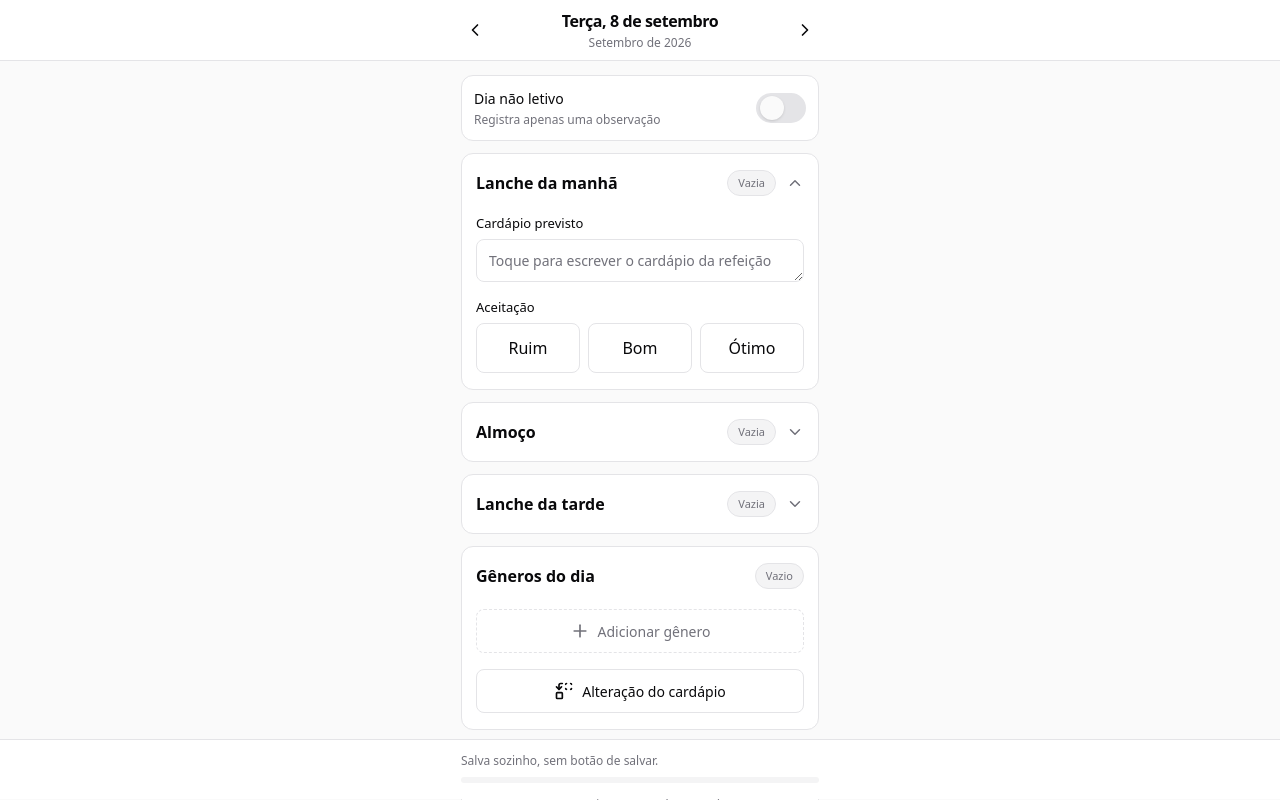
it: os gêneros utilizados › acham no catálogo sem exigir o acento certo (RNF#1 da US009)
The width and height of the screenshot is (1280, 800).
Click the button "Almoço Vazia".
click(506, 432)  # box [462,403,818,461]
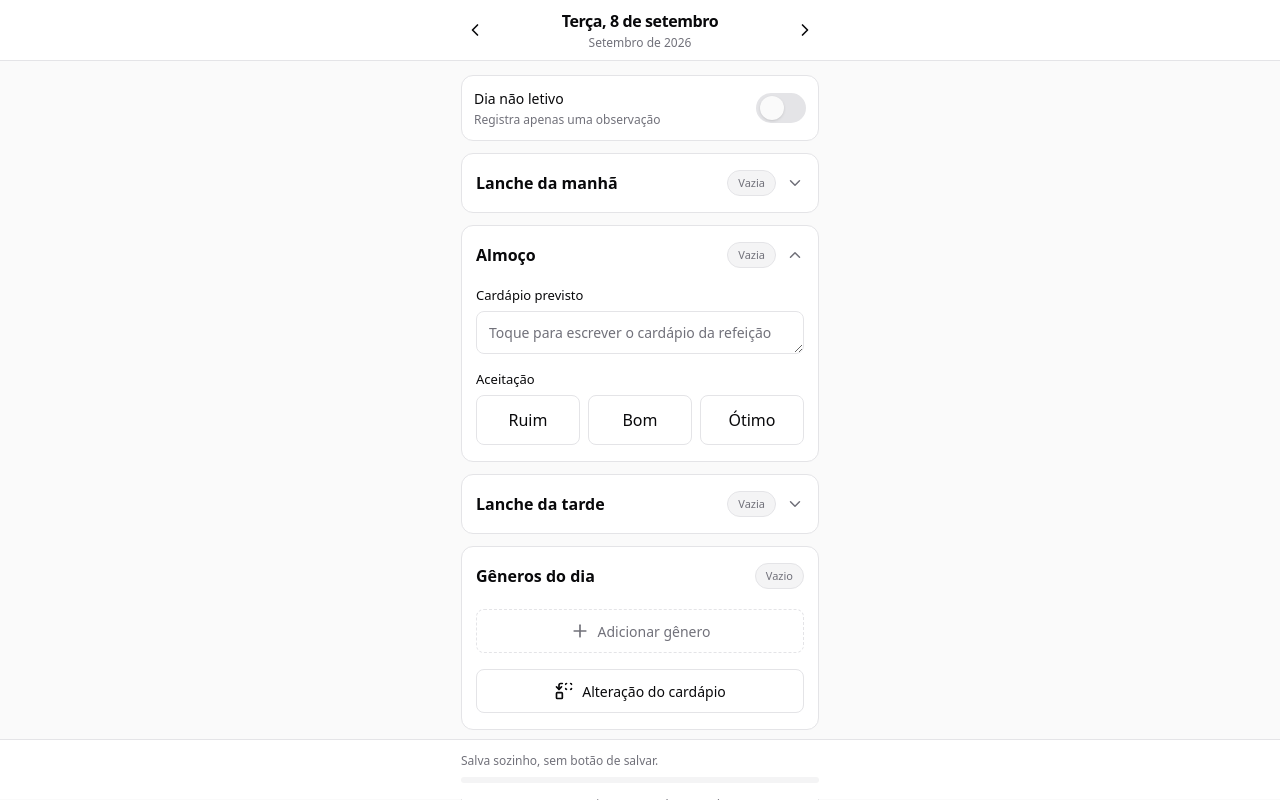
Click the button "Adicionar gênero".
click(640, 631)  # box [476,609,804,653]
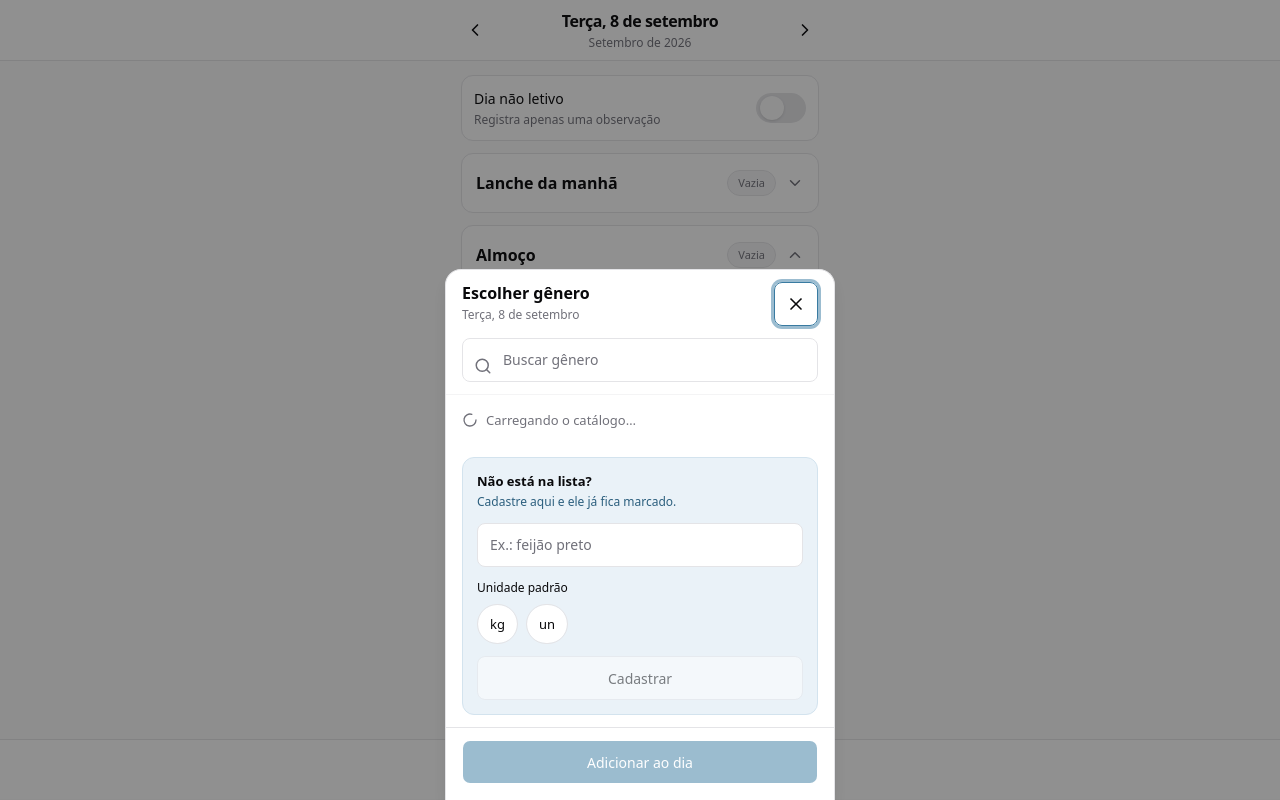
Type "feijao" into the search field labelled "Buscar gênero".
click(640, 360); type("feijao")  # box [462,338,818,382]
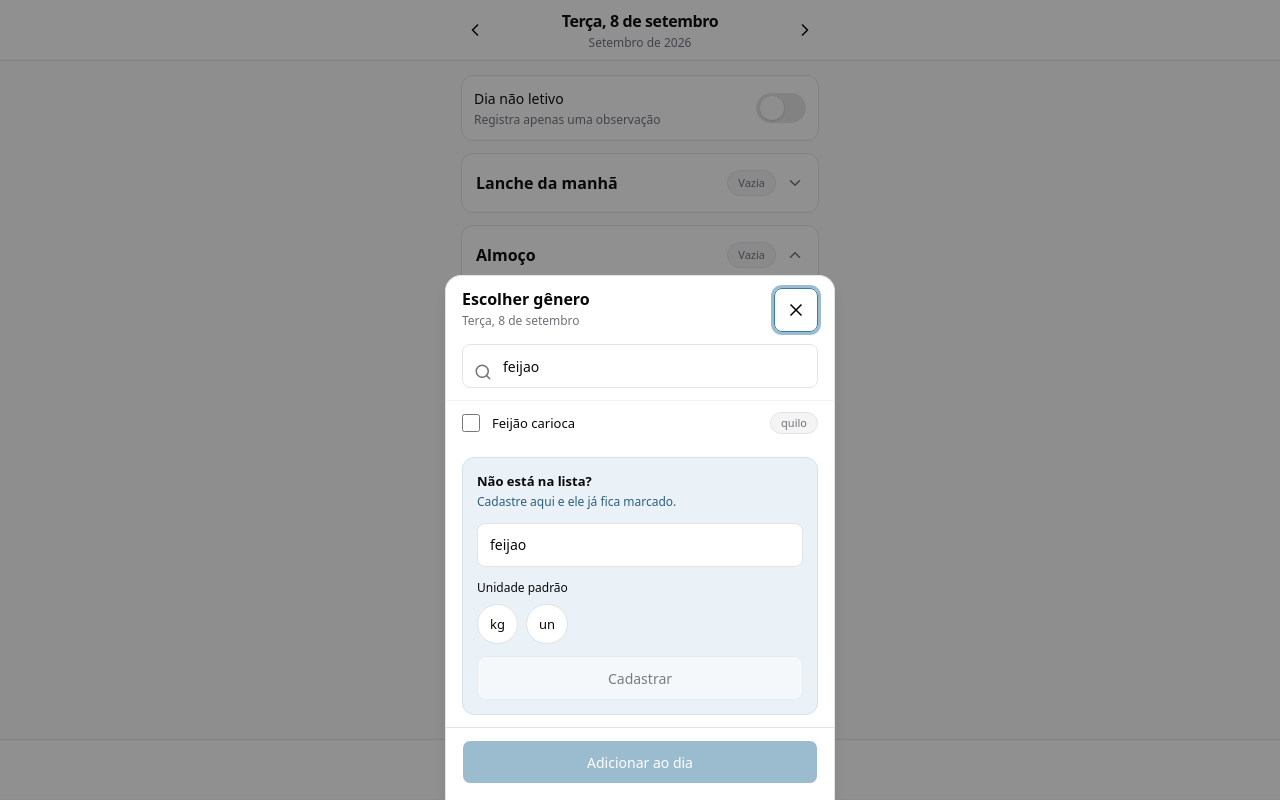
Expected: the checkbox labelled "Feijão carioca quilo" is shown, [462,414,480,432]
